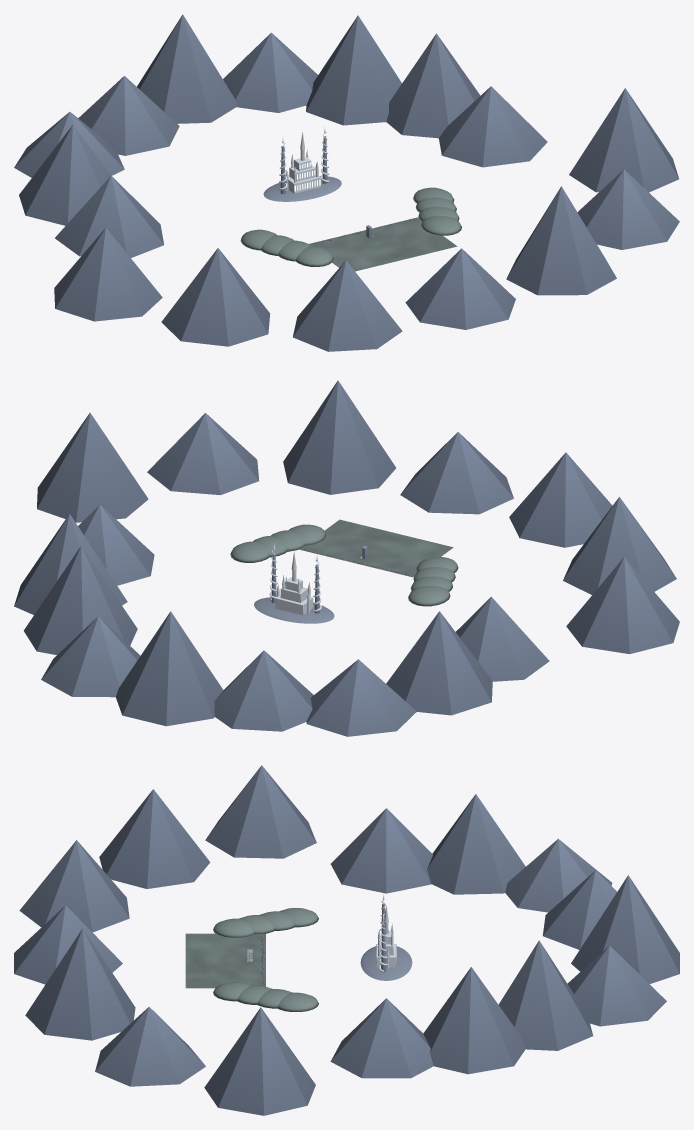
The model's file is palace.glb.
3 renders of one model, top to bottom at view 1: azimuth 30°, elevation 25°; view 2: azimuth 150°, elevation 25°; view 3: azimuth 270°, elevation 25°, orthographic. The views are drawn at different scales.
Visible parts, largest first — view 1: lk_hills, lk_shore, lk_palace; view 2: lk_hills, lk_shore, lk_palace; view 3: lk_hills, lk_shore, lk_palace.
Boxes of the visible parts, x1,y1,x2,y2 form: lk_hills: [14, 14, 679, 351]; lk_shore: [309, 217, 457, 271]; lk_palace: [263, 126, 341, 201]; lk_hills: [14, 380, 679, 736]; lk_shore: [299, 519, 453, 577]; lk_palace: [254, 543, 334, 623]; lk_hills: [14, 765, 679, 1115]; lk_shore: [185, 933, 265, 988]; lk_palace: [360, 893, 412, 980].
Size of the model in its own units: 501 by 68.13 by 464.
